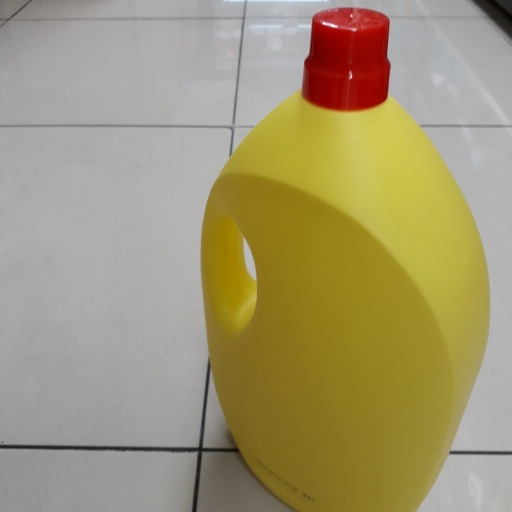Plastic_1: (201, 6, 489, 510)
